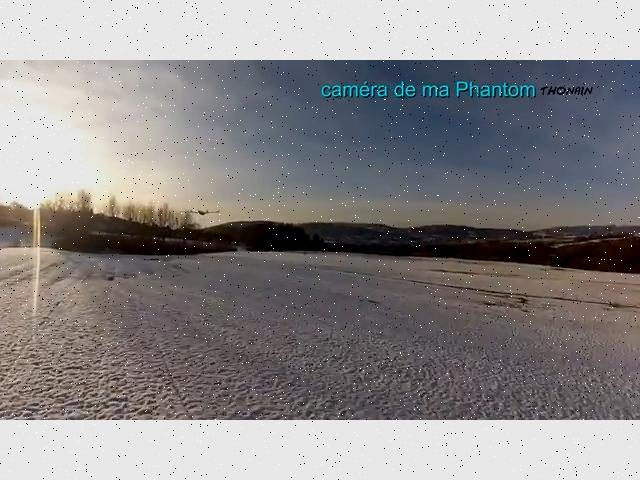Anti-Drone: (184, 209, 220, 214)
